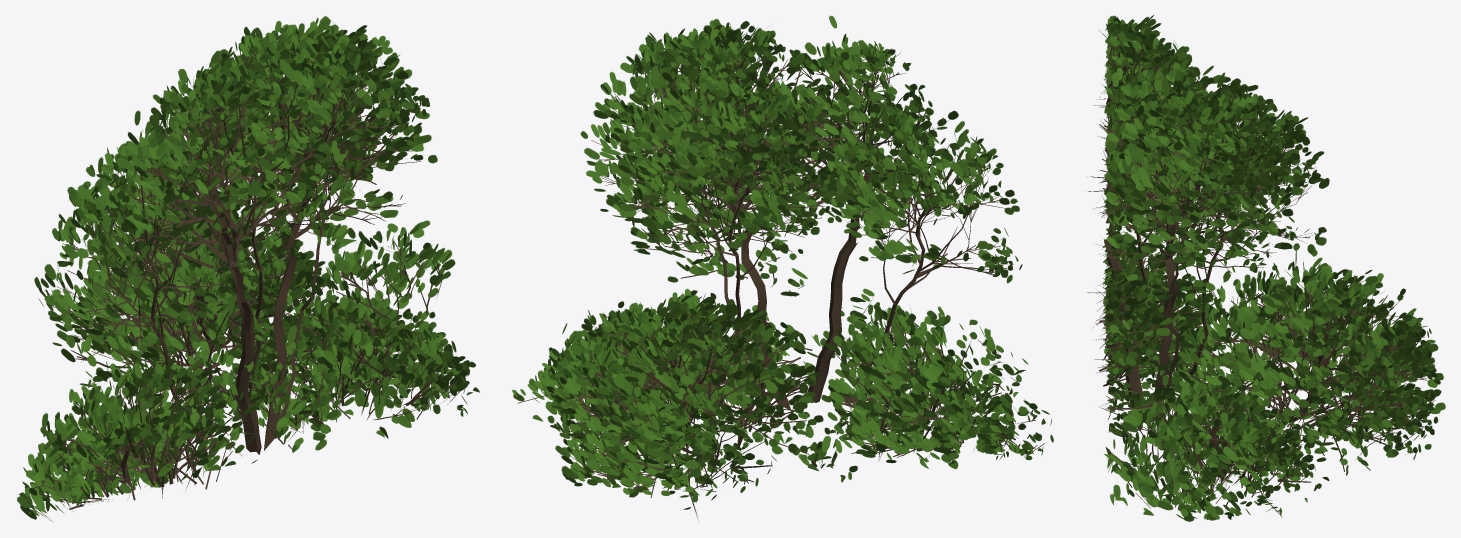
3 renders of one model, left to right at view 1: azimuth 30°, elevation 25°; view 2: azimuth 150°, elevation 25°; view 3: azimuth 270°, elevation 25°, orthographic. The views are drawn at different scales.
Visible parts, largest first — view 1: oak 01.001_trunk_Mat.001_0.249; view 2: oak 01.001_trunk_Mat.001_0.249; view 3: oak 01.001_trunk_Mat.001_0.249.
Part boxes in pixels (x1,y1,x2,y2): oak 01.001_trunk_Mat.001_0.249: (17,16,479,521); oak 01.001_trunk_Mat.001_0.249: (512,15,1053,520); oak 01.001_trunk_Mat.001_0.249: (1086,15,1445,521).
Bounding box in the file's own units: 6.39 × 5.22 × 4.29.
Materials: 2 (1 with a texture image).
